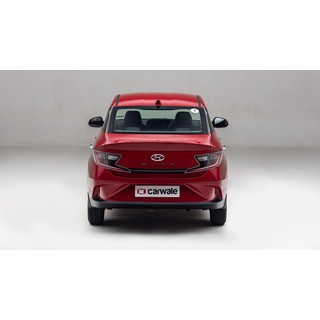car: (84, 89, 232, 227)
